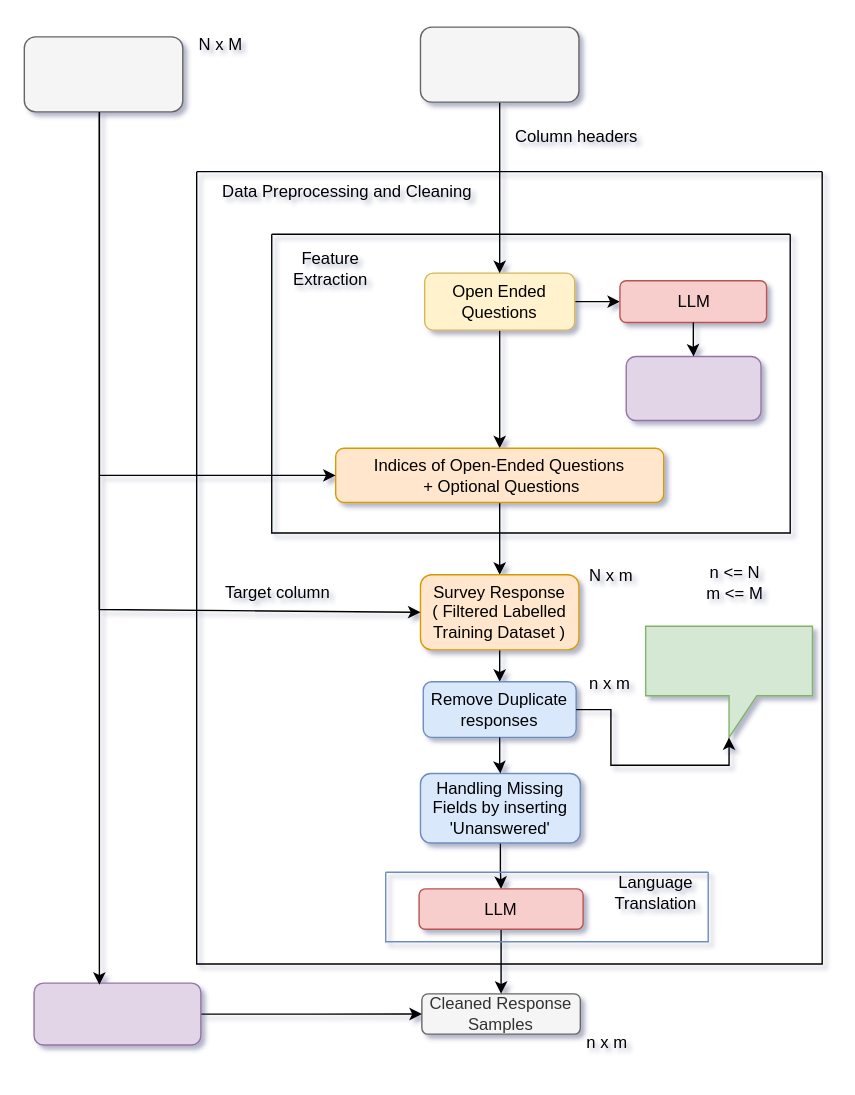
Image size: 855x1095. Some labels were removed from this diagram. The centre of each missing label's shape, as x and y in pixels:
"Compute Sample Response duration" belongs at point 117,1013.
"Survey Meta Data ( Data Dictionary )" belongs at point 499,64.
"Survey Response ( Labelled Training Dataset )" belongs at point 103,73.
"To remove inter-survey repetitive responses" belongs at point 728,681.
"Weights of OE questions" belongs at point 693,387.
